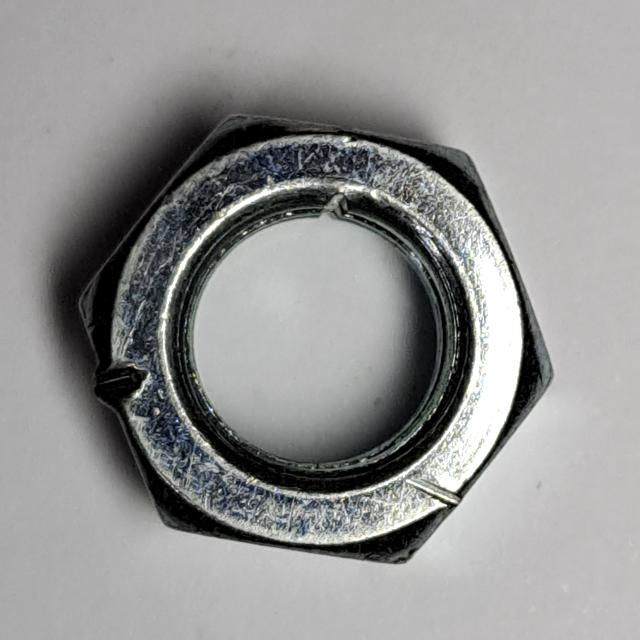Scratches: (64, 102, 567, 584)
